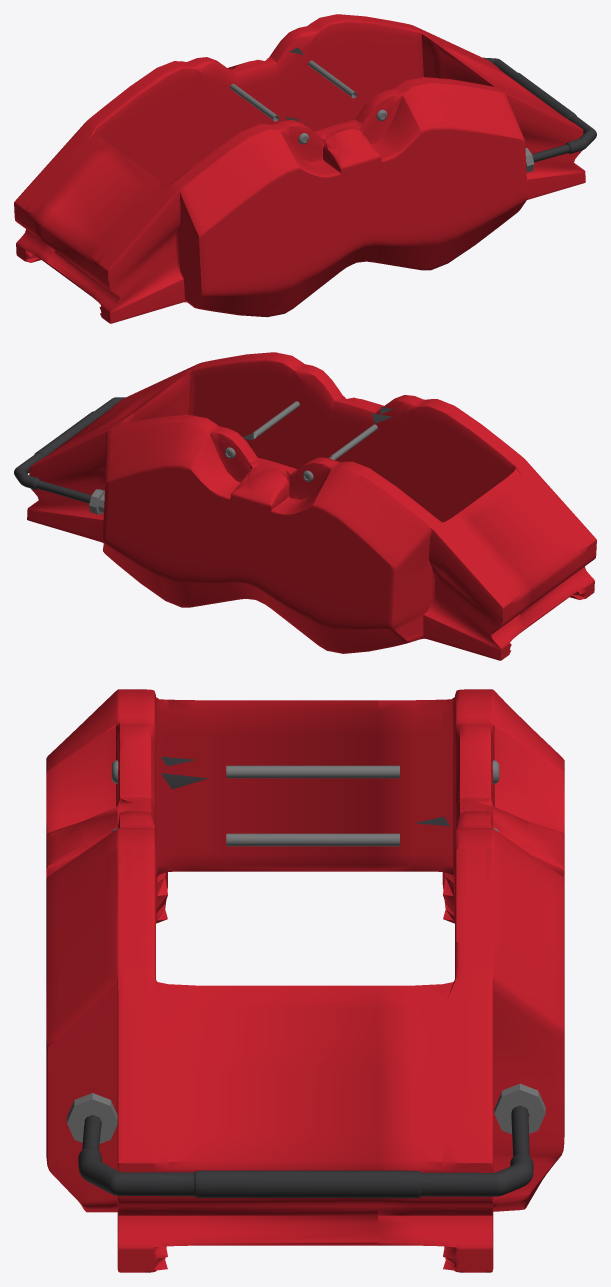
File: wilwood-4p.glb
3 views of the same model, one above another, from view 1: azimuth 30°, elevation 25°; view 2: azimuth 150°, elevation 25°; view 3: azimuth 270°, elevation 25° (orthographic). The views are drawn at different scales.
Parts seen in each view (by area): view 1: RealCaliper; view 2: RealCaliper; view 3: RealCaliper.
Boxes of the visible parts, x1=… form: RealCaliper: x1=14, y1=14, x2=596, y2=323; RealCaliper: x1=14, y1=352, x2=596, y2=660; RealCaliper: x1=46, y1=689, x2=564, y2=1272.
Bounding box in the file's own units: 0.233 × 0.0856 × 0.1071.
